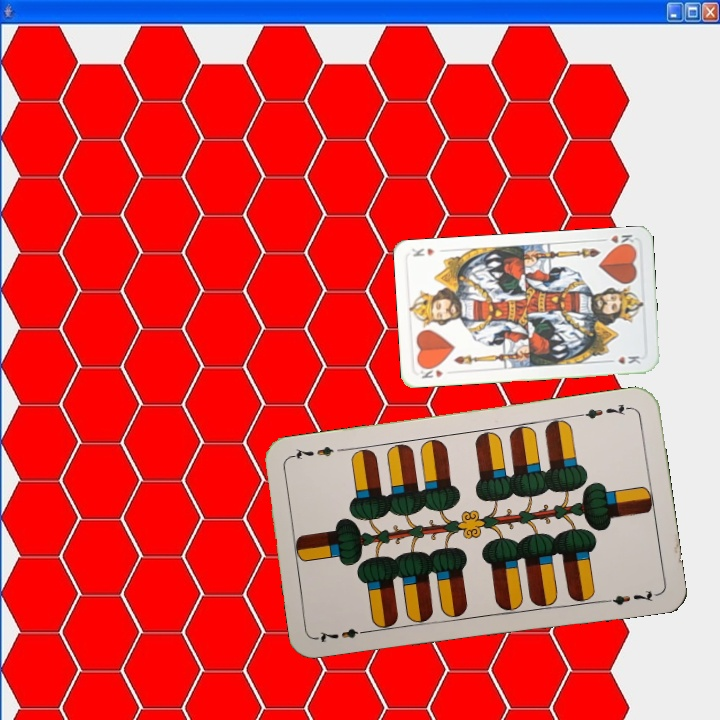E7: (575, 400, 634, 422), (314, 624, 373, 645)
HK: (596, 231, 637, 250), (416, 362, 445, 381)
